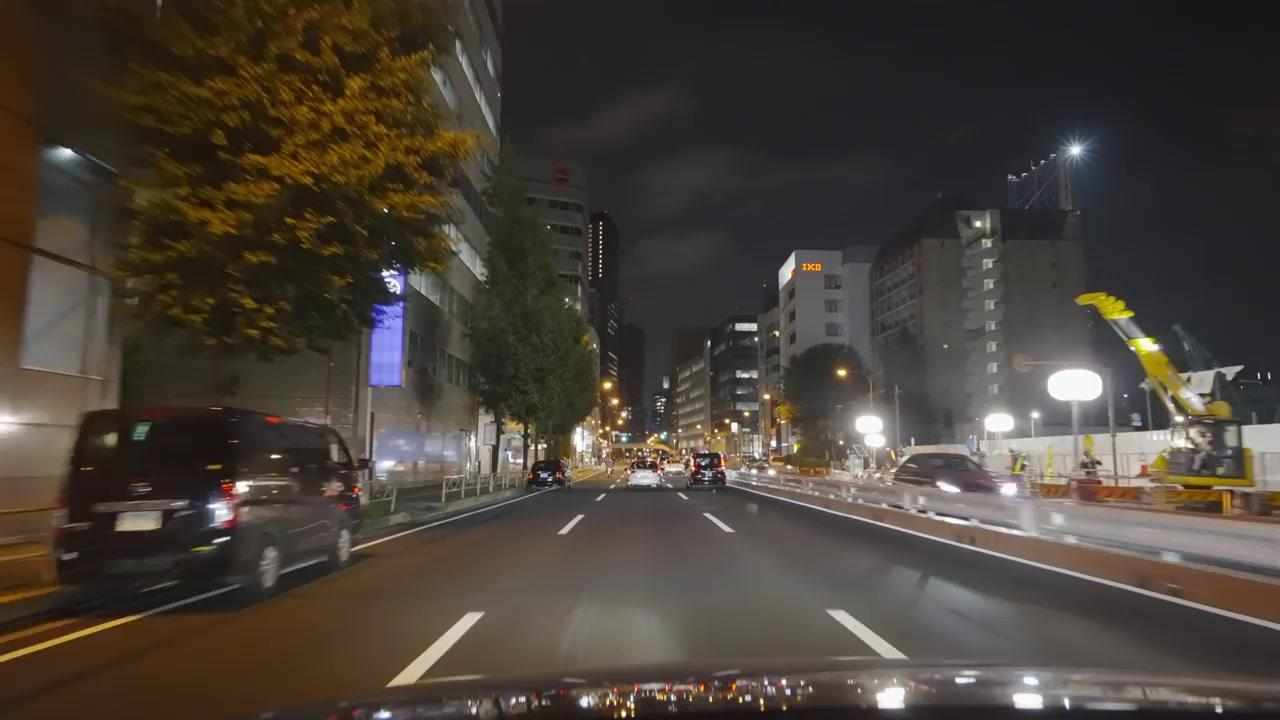car: (49, 405, 362, 600), (890, 447, 1014, 495), (688, 451, 727, 488), (527, 459, 571, 488), (628, 464, 660, 488)
kite: (1075, 291, 1244, 421)
traffic light: (834, 364, 849, 382)
